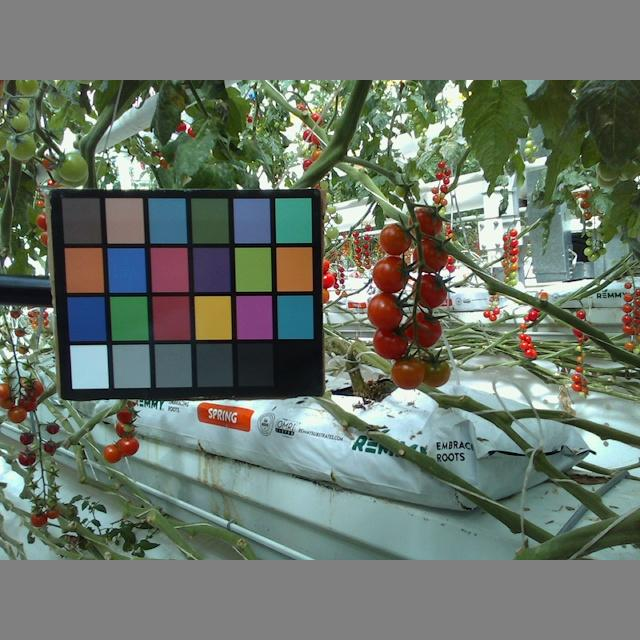green: (6, 135, 41, 164), (57, 151, 87, 183), (6, 93, 30, 116), (11, 111, 32, 134), (19, 81, 41, 99)
pink: (408, 208, 445, 243), (380, 219, 413, 255), (389, 356, 425, 388), (419, 355, 452, 387)
red: (366, 291, 404, 330), (374, 322, 409, 361), (408, 310, 444, 347), (372, 256, 410, 291), (412, 240, 449, 273), (414, 274, 446, 310), (114, 421, 137, 443), (116, 437, 140, 458), (104, 442, 124, 465), (114, 403, 136, 422)
